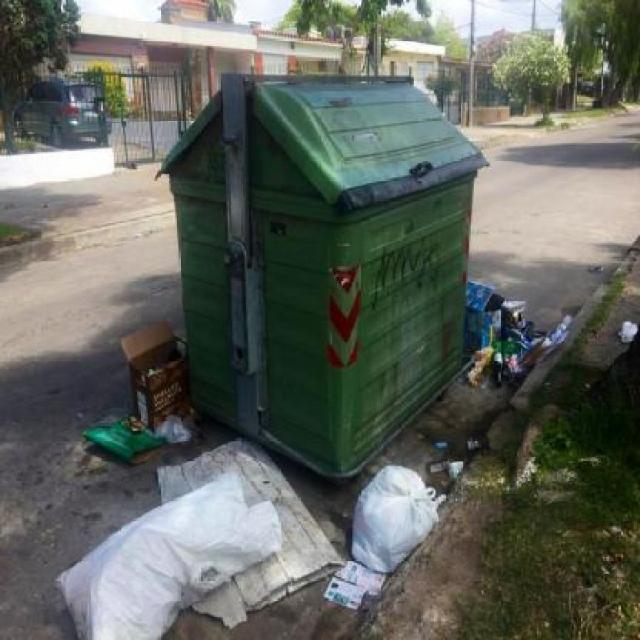garbage: (45, 458, 439, 640), (76, 323, 207, 476), (469, 276, 640, 376), (430, 433, 479, 480)
